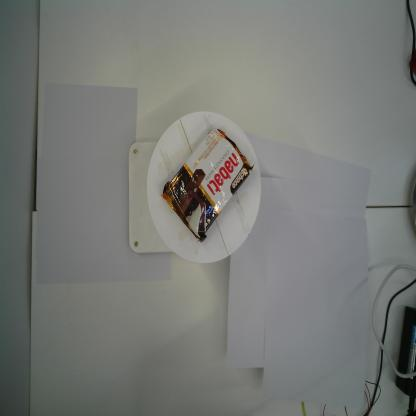Dessert: (160, 126, 255, 246)
